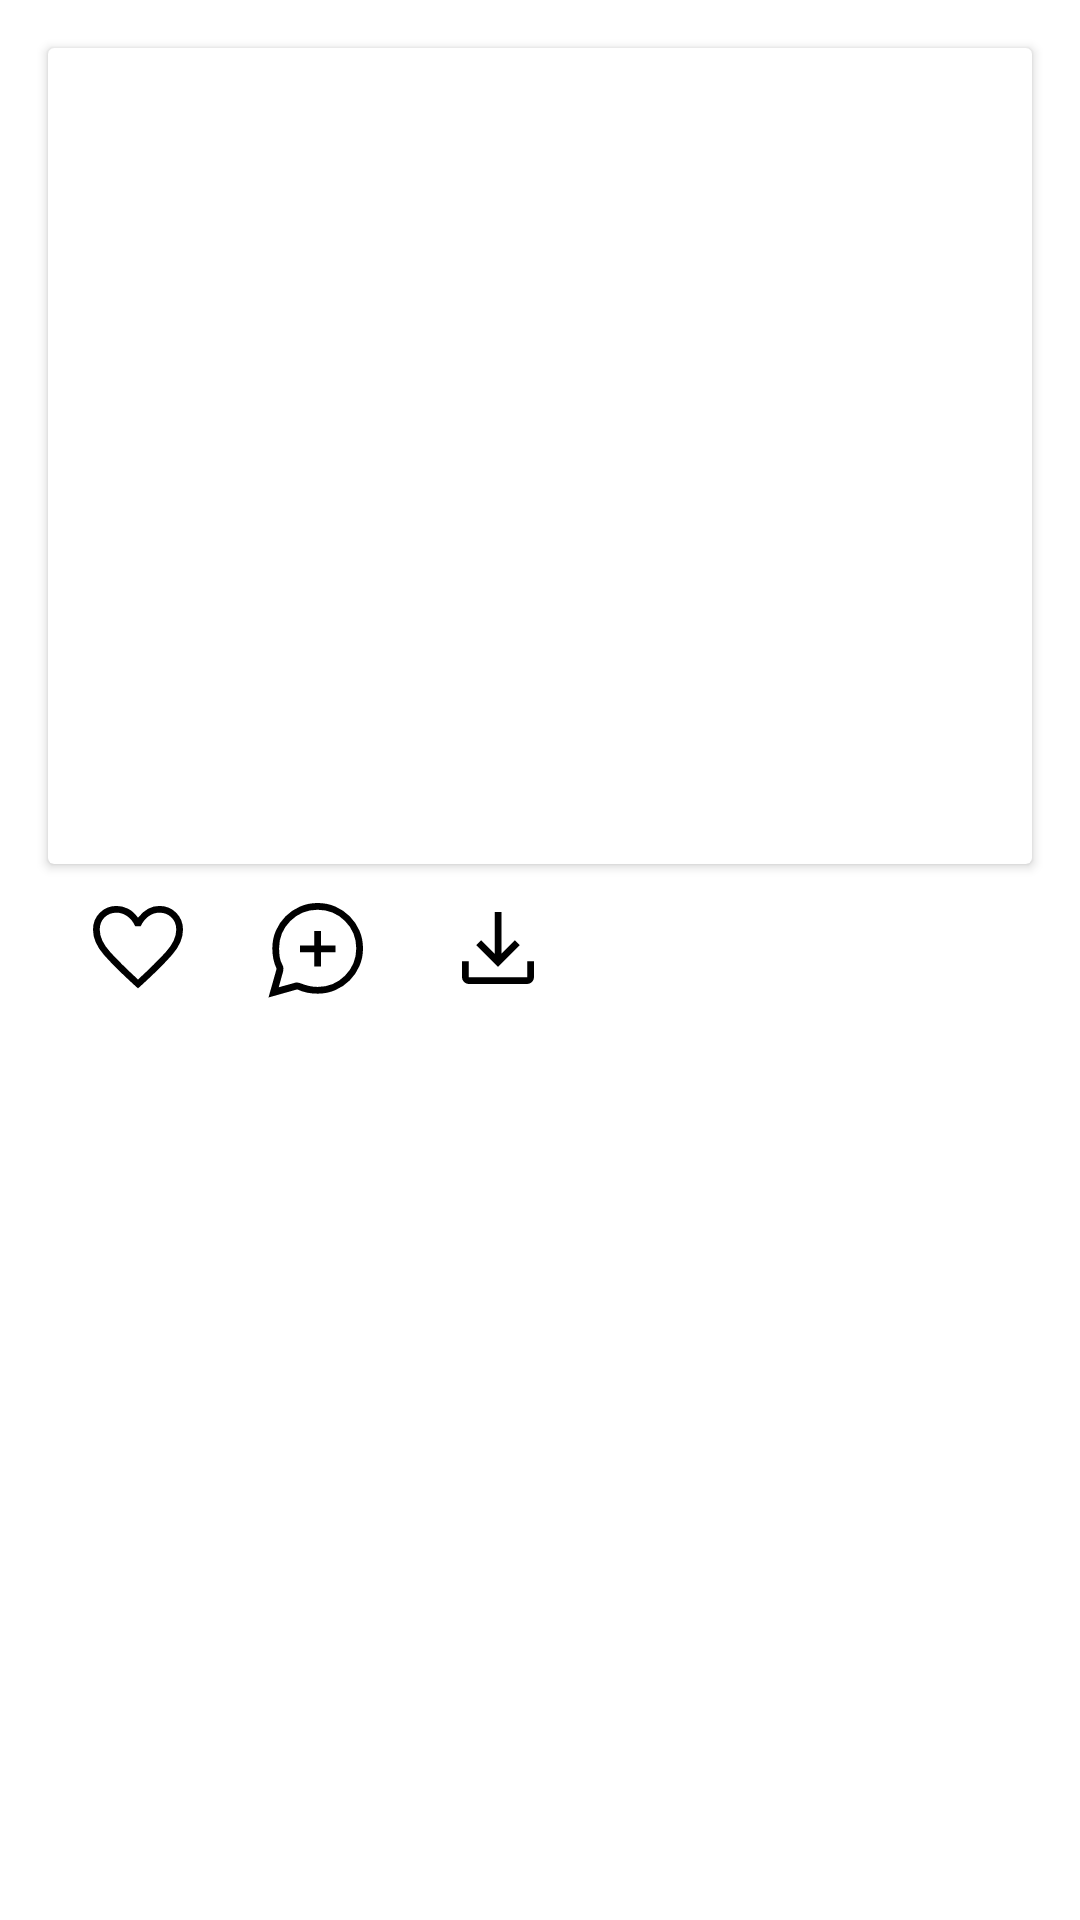

Screen size 1080w x 1920h. Icon name, then its box in pixels as (x1, y1, x2, y2):
favorite: (93, 906, 183, 988)
file download: (462, 912, 534, 984)
maps ugc: (268, 903, 363, 998)
